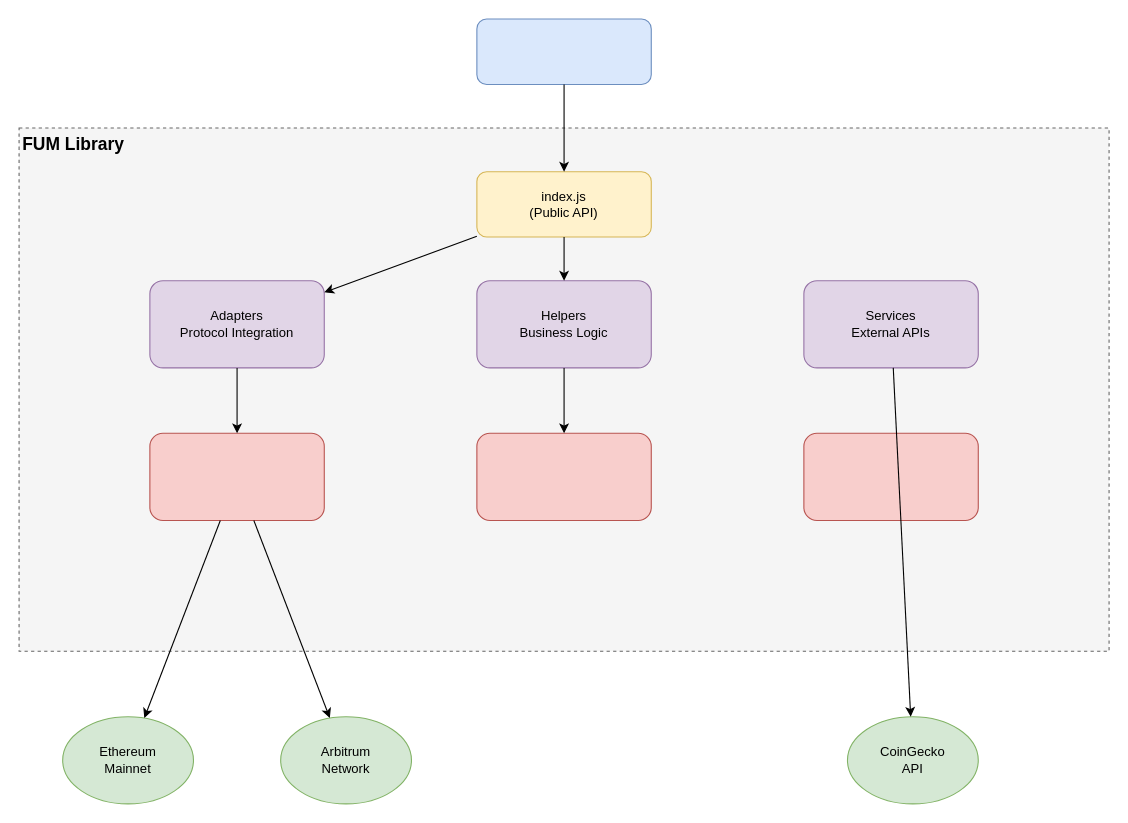
This 1128x823 diagram has some shape labels left out. The shapes that lost their labels are listed below. From the top down, each one's box as (x1, y1, x2, y2) in pixels, then its label:
(476, 18, 651, 84): User Application
(149, 432, 324, 520): Blockchain Web3 Operations
(476, 432, 651, 520): Configs Static Data
(803, 432, 978, 520): Artifacts Contract ABIs
